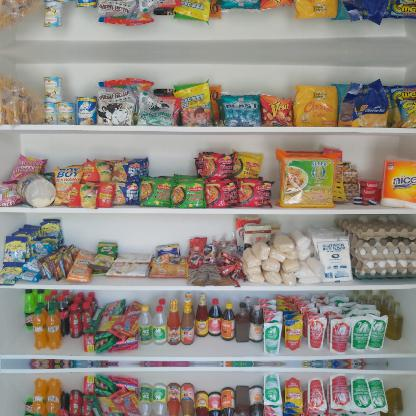Lady-s-Choice: (16, 173, 56, 207)
